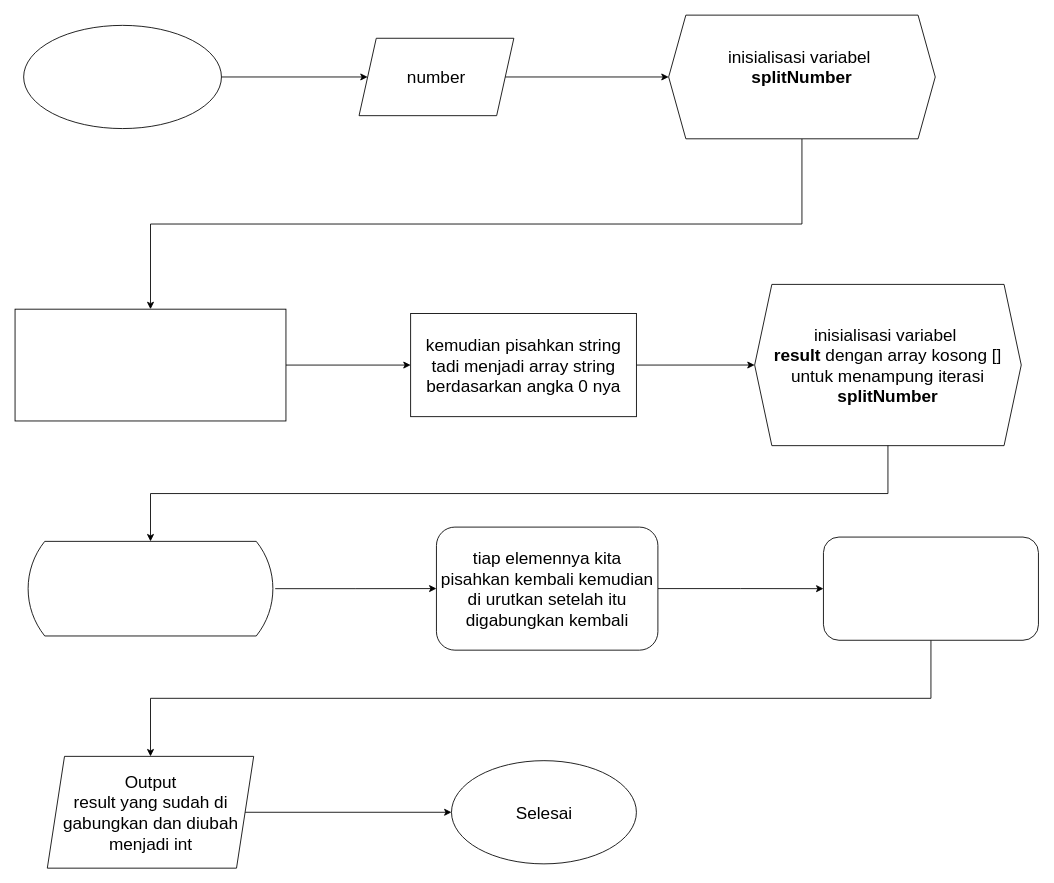
This 1054x883 diagram has some shape labels left out. Here are the shapes that lost their labels. From the top down, the centre of each, then its label:
At pixel 122 77: "Mulai".
At pixel 150 364: "isi variabel splitNumber dengan number yang sudah di convert menjadi string".
At pixel 150 588: "Iterasi splitNumber untuk mengambil tiap elementnya".
At pixel 930 588: "masukan hasil proses sebelumnya ke dalam variabel result".
